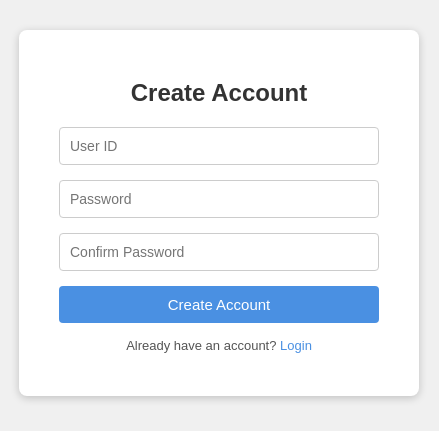
CreateAccount Component › shows backend error responses
Type "taken" into the field with placeholder "User ID" at (219, 146), box x1=59 y1=128 x2=379 y2=166
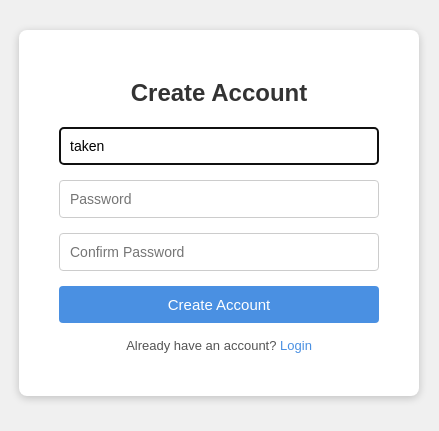
Type "pass123" into the password field with placeholder "Password" at (219, 200), box x1=59 y1=180 x2=379 y2=218
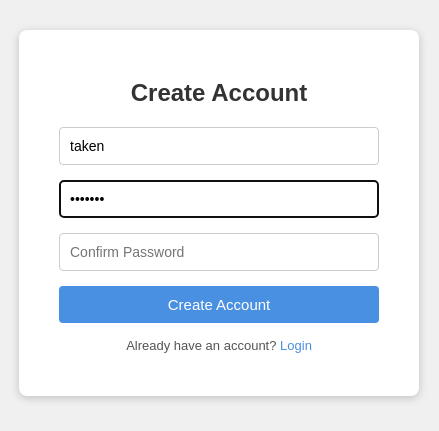
Type "pass123" into the password field with placeholder "Confirm Password" at (219, 252), box x1=59 y1=234 x2=379 y2=272
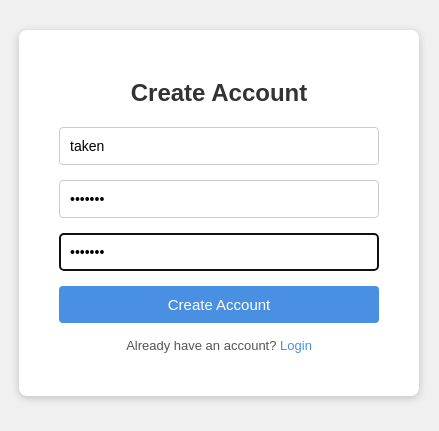
Click the button "Create Account" at (219, 305), box x1=59 y1=286 x2=379 y2=324
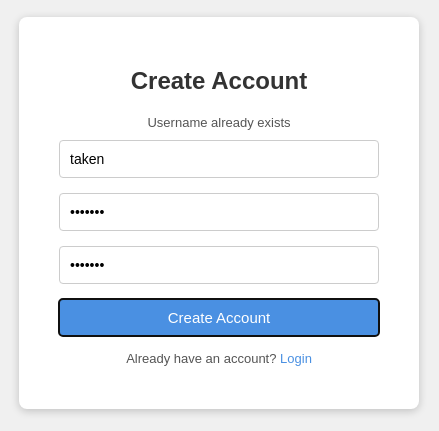
Result: the text "Username already exists" is shown at x1=148 y1=115 x2=291 y2=130
